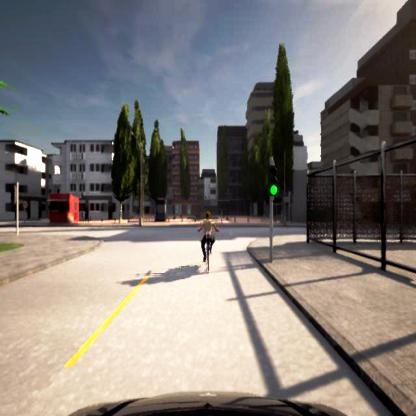bike: (195, 211, 220, 273)
